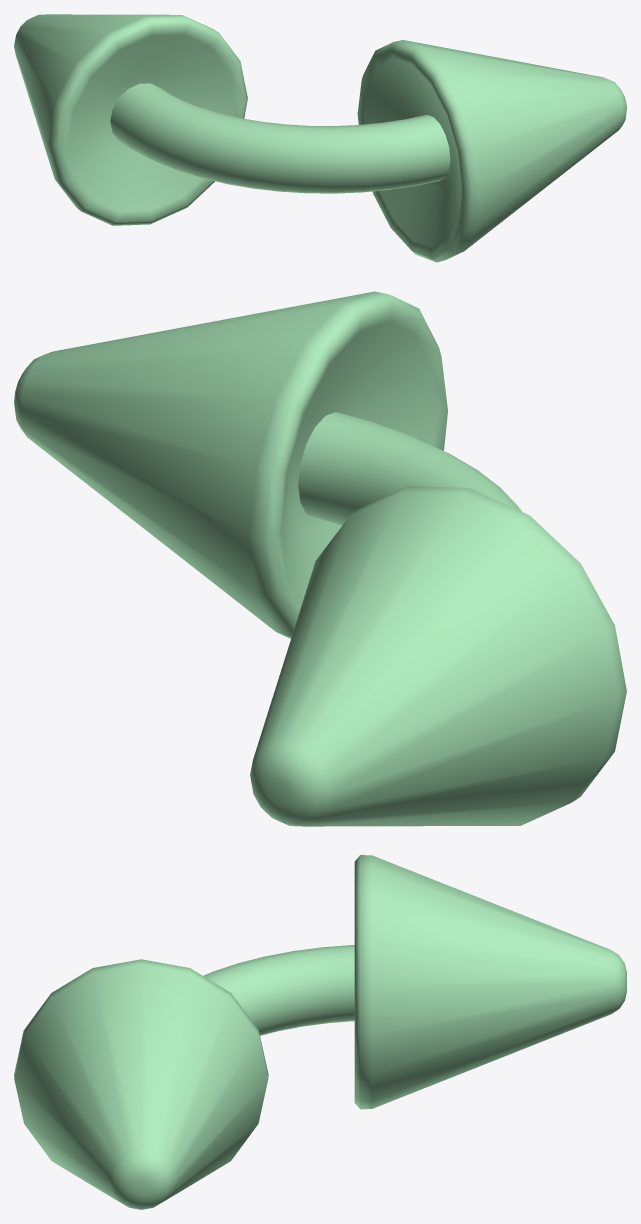
The model's file is Arrow_Rotate_v3.glb.
The picture shows the model from 3 angles, top to bottom: view 1: azimuth 30°, elevation 25°; view 2: azimuth 150°, elevation 25°; view 3: azimuth 270°, elevation 25°; orthographic projection. The views are drawn at different scales.
Visible parts, largest first — view 1: Control_Rotate_Right; view 2: Control_Rotate_Right; view 3: Control_Rotate_Right.
Boxes of the visible parts, x1=… form: Control_Rotate_Right: x1=14, y1=14, x2=626, y2=262; Control_Rotate_Right: x1=14, y1=291, x2=626, y2=826; Control_Rotate_Right: x1=14, y1=855, x2=626, y2=1209.
Size of the model in its own units: 0.3216 by 0.1336 by 0.3216.
